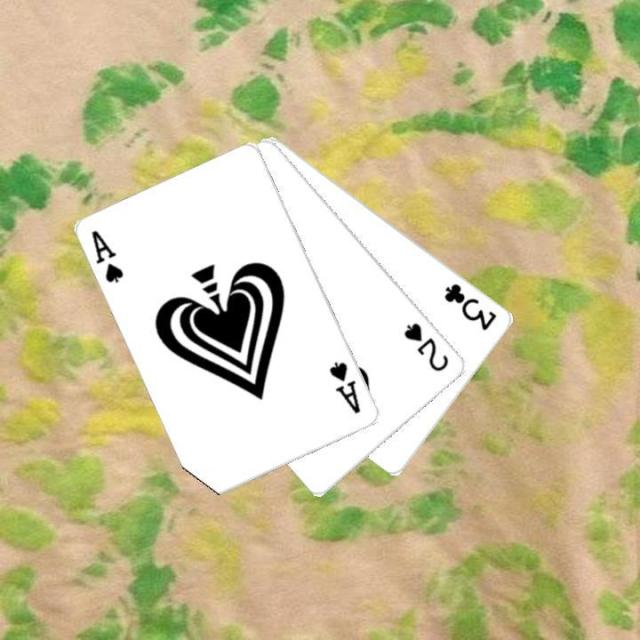2S: (400, 318, 452, 374)
3C: (441, 279, 499, 333)
AS: (88, 226, 126, 285), (325, 358, 363, 416)
